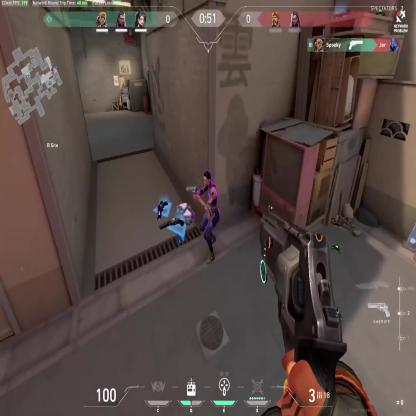enemy: (196, 170, 220, 262)
enemy_head: (203, 171, 211, 188)
